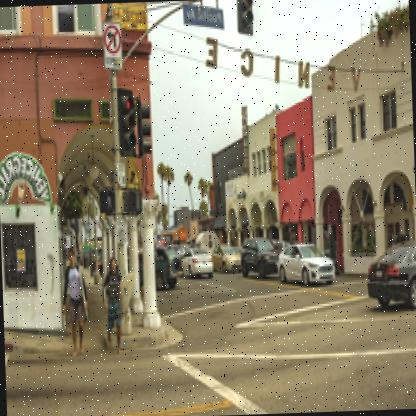trafficlight: (117, 86, 141, 154), (139, 91, 158, 156), (235, 0, 259, 38)
